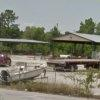Boat: (0, 56, 47, 84)
